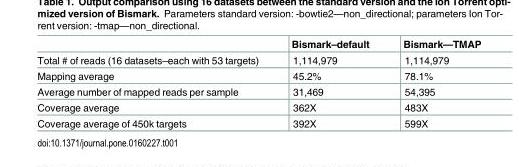table: (36, 37, 480, 128)
table column: (36, 37, 274, 128), (274, 37, 385, 128), (385, 37, 480, 128)
table column header: (36, 37, 480, 51)
table row: (36, 51, 480, 67), (36, 67, 480, 83), (36, 83, 480, 99), (36, 99, 480, 114), (36, 37, 480, 51), (36, 114, 480, 128)
